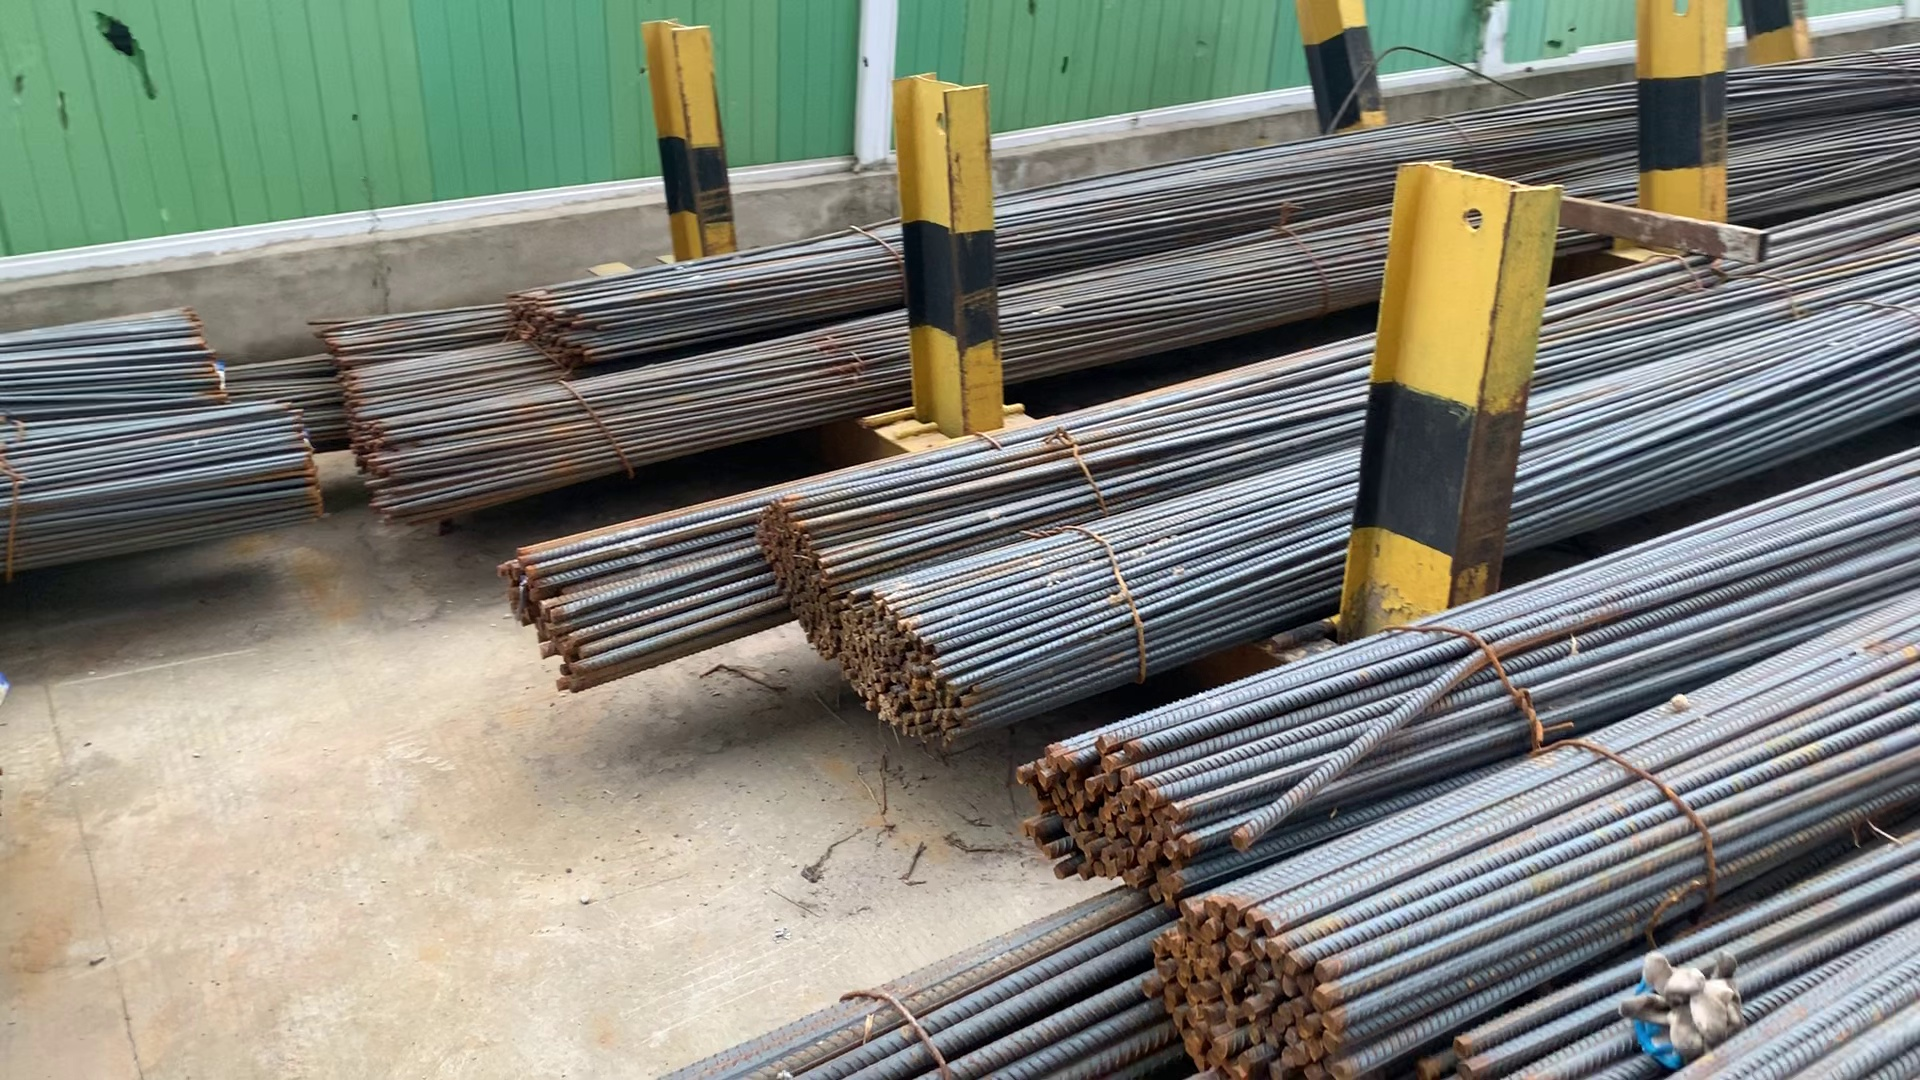rebar: (1147, 895, 1367, 1080), (1006, 727, 1196, 895), (837, 592, 965, 760), (489, 545, 596, 687), (750, 512, 841, 662), (512, 291, 588, 372)
